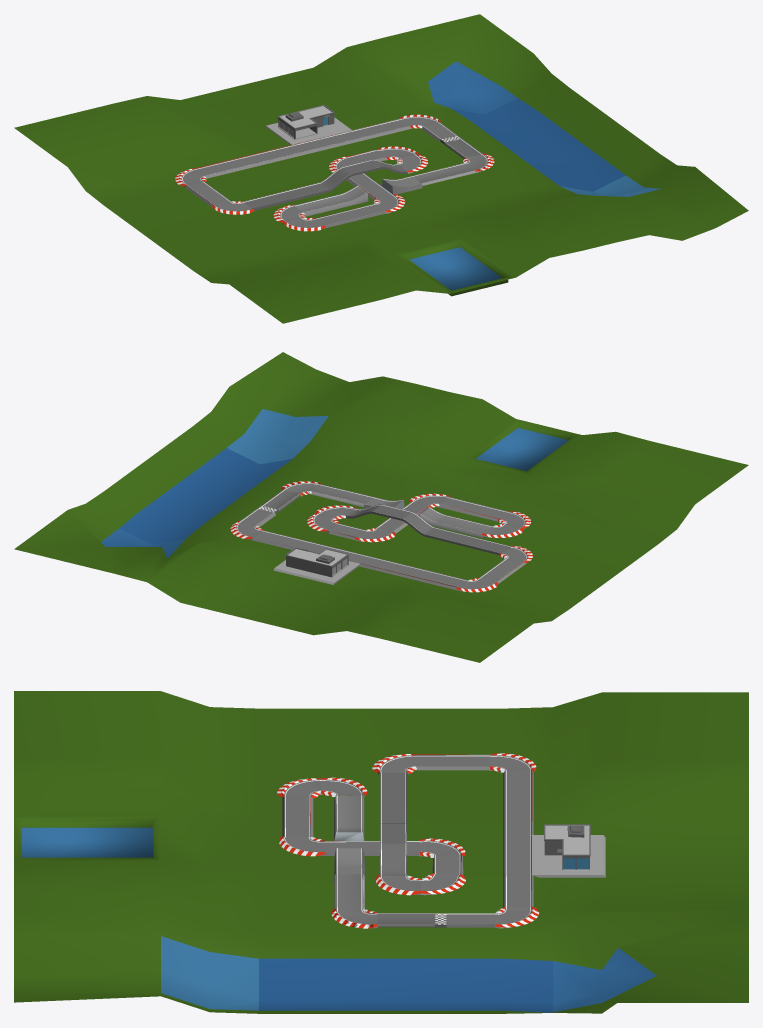
Rendered from low_poly_race_track.glb.
The picture shows the model from 3 angles, top to bottom: view 1: azimuth 30°, elevation 25°; view 2: azimuth 150°, elevation 25°; view 3: azimuth 270°, elevation 25°; orthographic projection. The views are drawn at different scales.
Parts seen in each view (by area): view 1: Plane, TRII9, Plane.001; view 2: Plane, TRII9, Plane.001; view 3: Plane, TRII9, Plane.001.
Boxes of the visible parts, x1,y1,x2,y2 form: Plane: (14,14,748,323); TRII9: (175,114,494,231); Plane.001: (265,105,351,144); Plane: (14,352,748,662); TRII9: (230,481,532,592); Plane.001: (273,547,360,584); Plane: (14,691,748,1013); TRII9: (277,753,539,928); Plane.001: (531,824,605,877).
Bounding box in the file's own units: 524 × 41.48 × 524.
Materials: 3 (3 with a texture image).
